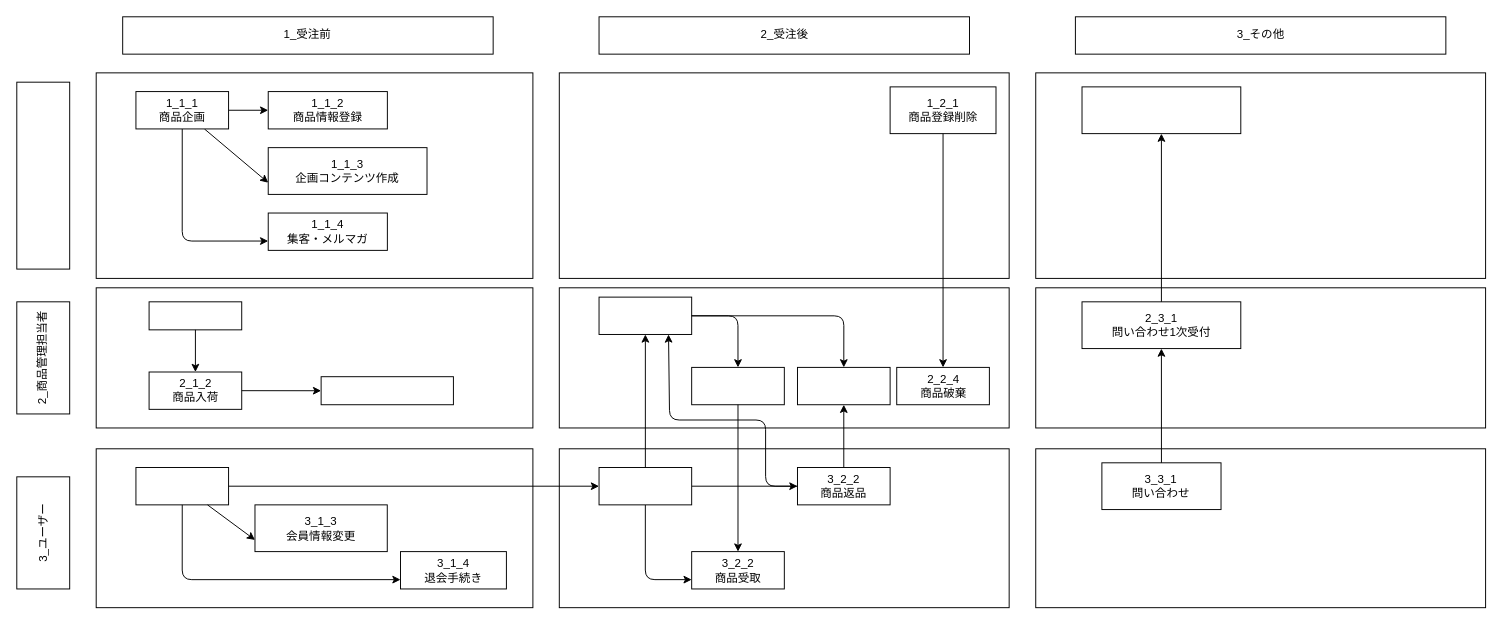
Some shapes in this 1502 by 625 pixel diagram are drawn without their labels. The box of each missing label's shape, as (x1, y1, x2, y2) in pixels:
1_3_1 問い合わせ2次受付: (1081, 86, 1241, 134)
1_商品企画担当者: (16, 81, 70, 269)
2_1_1 商品調達: (148, 301, 242, 330)
2_1_3 商品在庫管理: (320, 376, 453, 405)
2_2_1 受注処理: (598, 296, 692, 334)
2_2_2 商品出荷: (691, 366, 784, 405)
2_2_3 商品受取: (797, 366, 890, 405)
3_1_1 会員登録: (135, 467, 229, 505)
3_2_1 購入手続き: (598, 467, 692, 505)
